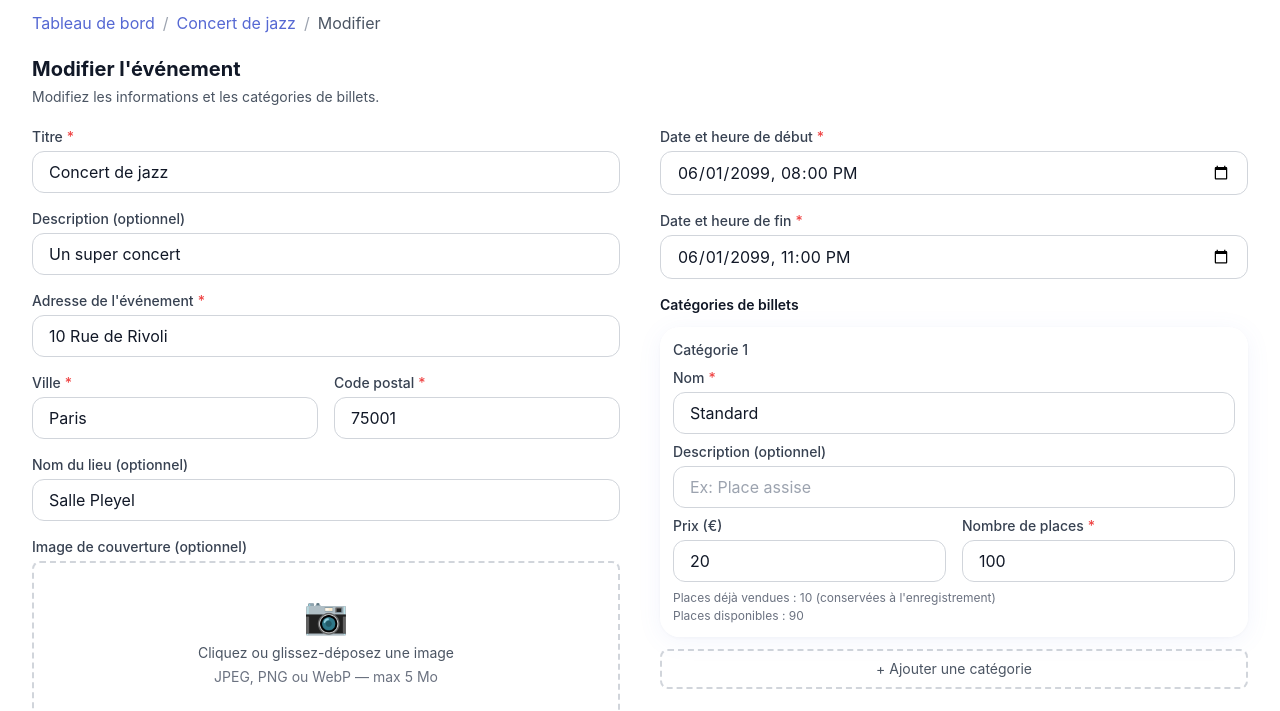
Test: EventEditPage - professional event › shows an error when the address cannot be geocoded
Expected: the heading "Modifier l'événement" is shown, 32,57 -> 240,81
Replace the text in the field labelled "Adresse de l'événement*" with "Adresse introuvable" at (326, 336), box 32,315 -> 620,357
(page scrolled)
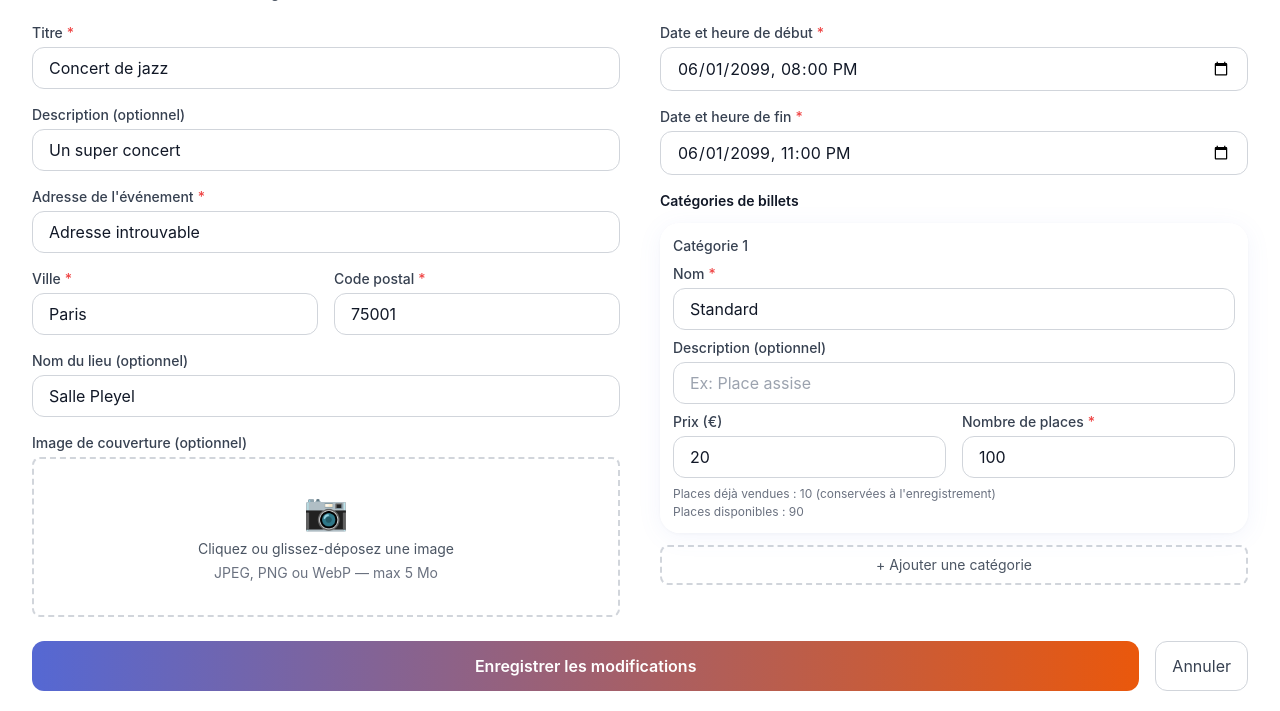
Click the button "Enregistrer les modifications" at (586, 666), box 32,641 -> 1139,691
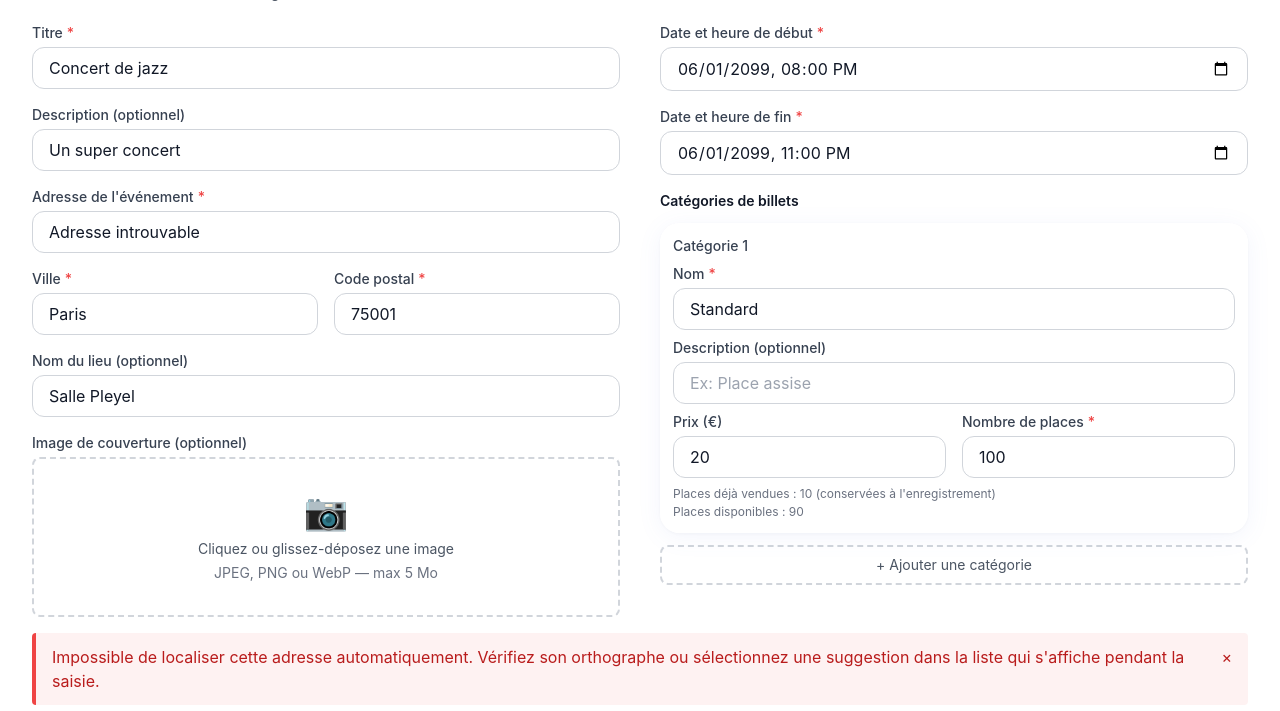
Now the text "Impossible de localiser cette adresse automatiquement" is shown, box 52,647 -> 1184,691
